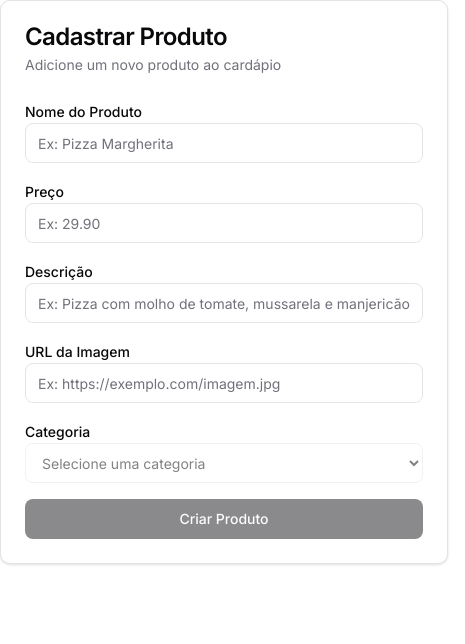
Test: RF03 - Funcionalidade de Gerenciamento de Produtos › Cenário 2: Validação de campos obrigatórios › deve exibir erro quando categoria não é selecionada
The width and height of the screenshot is (465, 644).
Expected: the button "Criar Produto" is shown, [25,499,423,539]
Type "Produto Teste" into the field labelled "Nome do Produto". click: [224, 143]
box: [25,123,423,163]
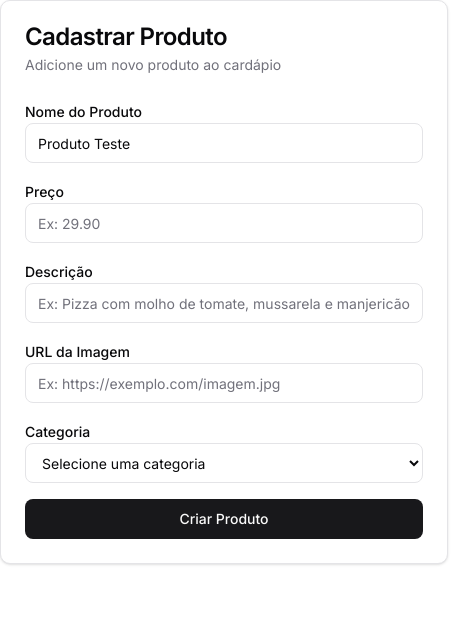
Type "10.00" into the field labelled "Preço". click: [224, 223]
box: [25,203,423,243]
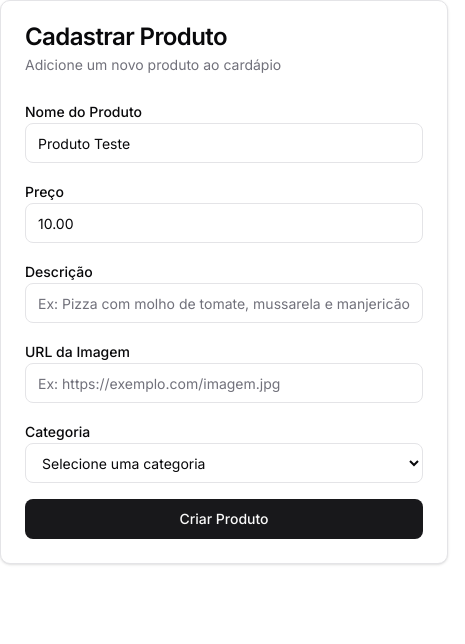
Type "Descrição teste" into the field labelled "Descrição". click: [224, 303]
box: [25,283,423,323]
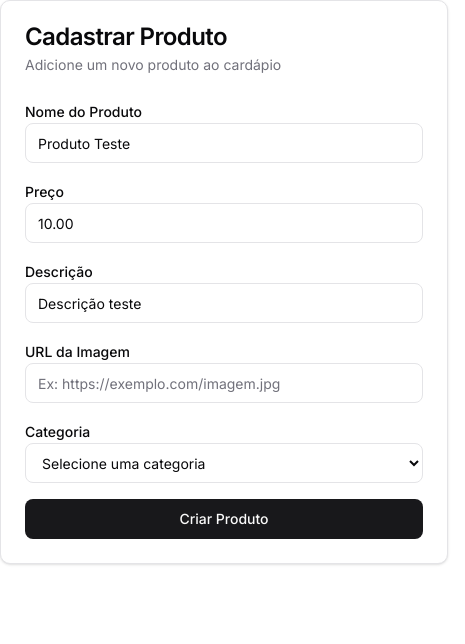
Click the button "Criar Produto". click: [224, 519]
box: [25,499,423,539]
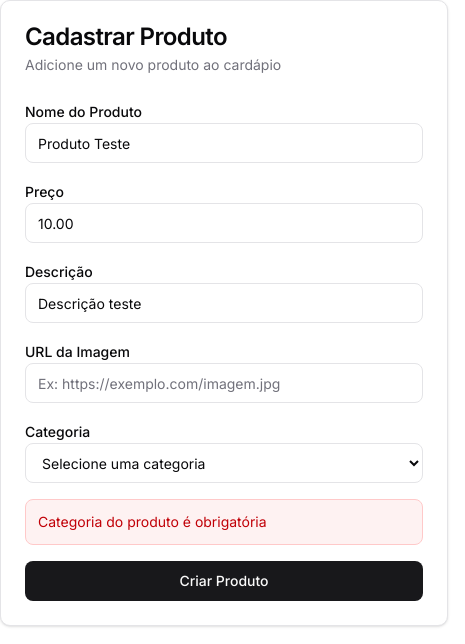
Expected: the text "Categoria do produto é obrigatória" is shown, [25,499,423,545]
